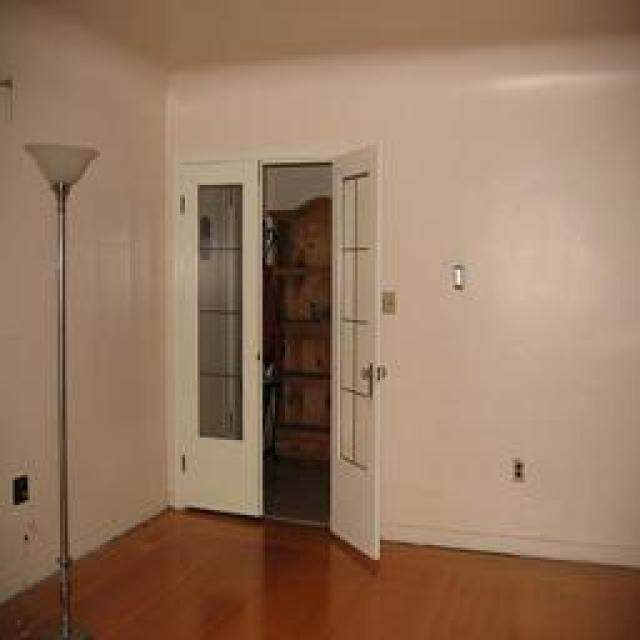other: (142, 511, 348, 631), (258, 198, 326, 457)
